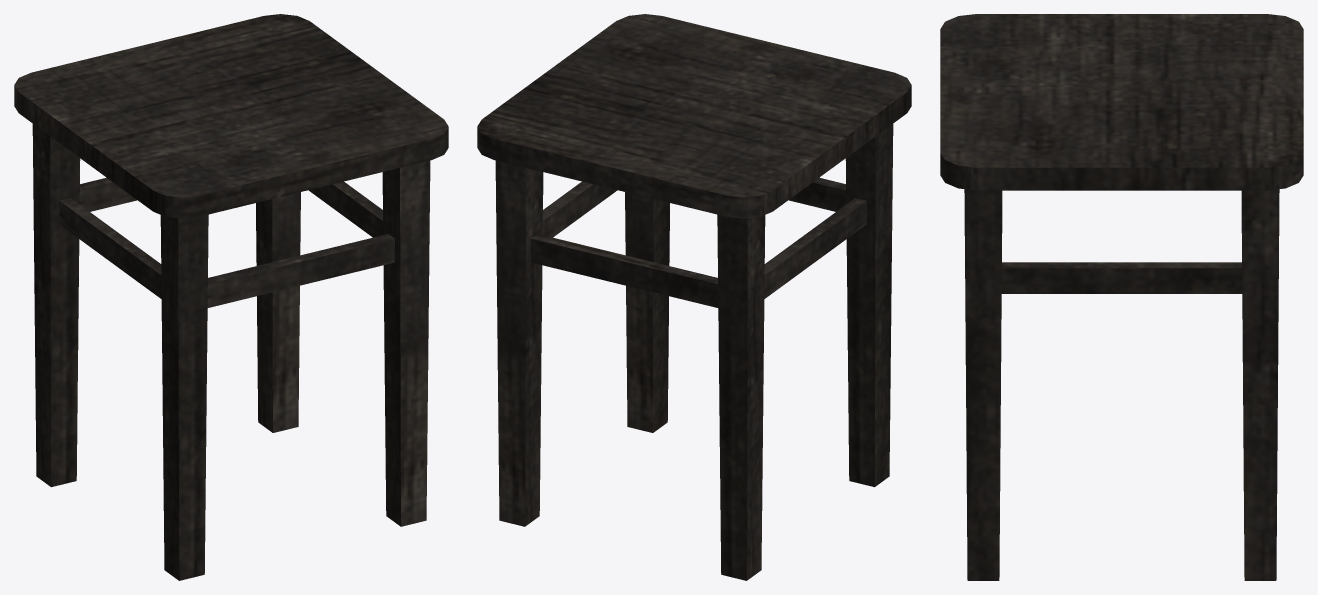
Rendered from chair_mp_2.dae.
3 views of the same model, side by side, from view 1: azimuth 30°, elevation 25°; view 2: azimuth 150°, elevation 25°; view 3: azimuth 270°, elevation 25° (orthographic). The views are drawn at different scales.
Visible parts, largest first — view 1: chair_mp_2; view 2: chair_mp_2; view 3: chair_mp_2.
Part boxes in pixels (x1,y1,x2,y2): chair_mp_2: (14, 14, 448, 580); chair_mp_2: (477, 14, 911, 580); chair_mp_2: (940, 14, 1303, 580).
Size of the model in its own units: 0.4607 by 0.4607 by 0.594.
Materials: 1 (1 with a texture image).
